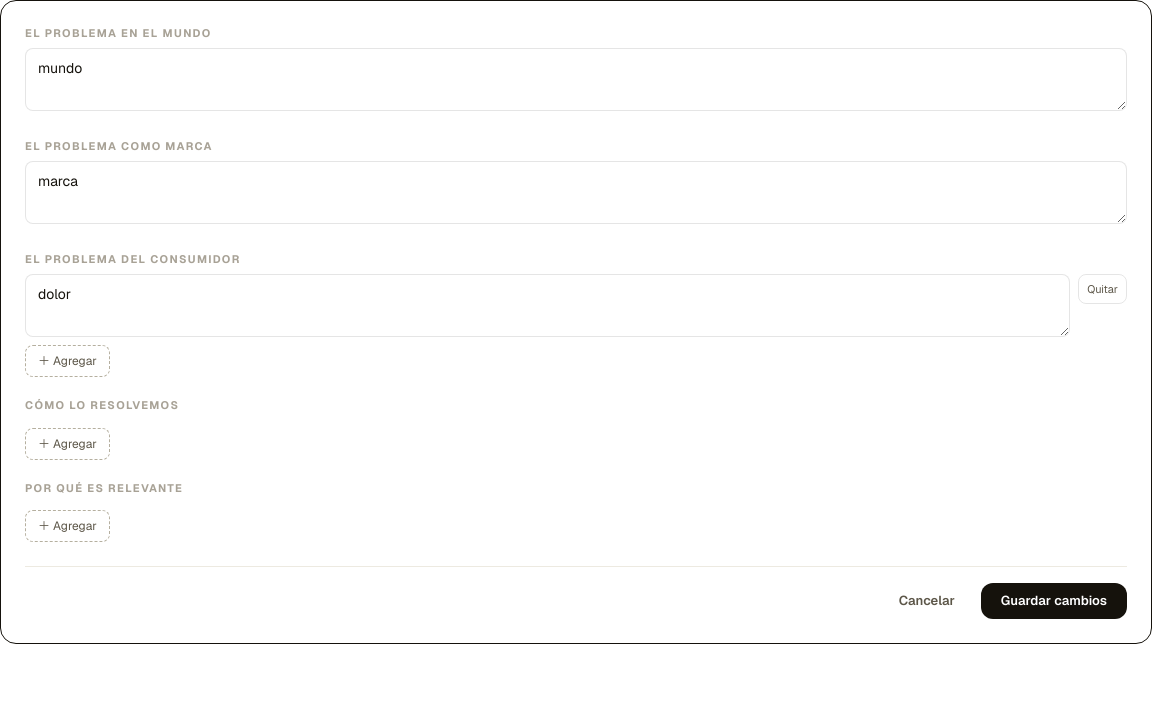
Test: EditorSeccion › el error del servidor se muestra y no recarga
Click the button "Guardar cambios".
click(1054, 601)  # box [981, 583, 1127, 618]
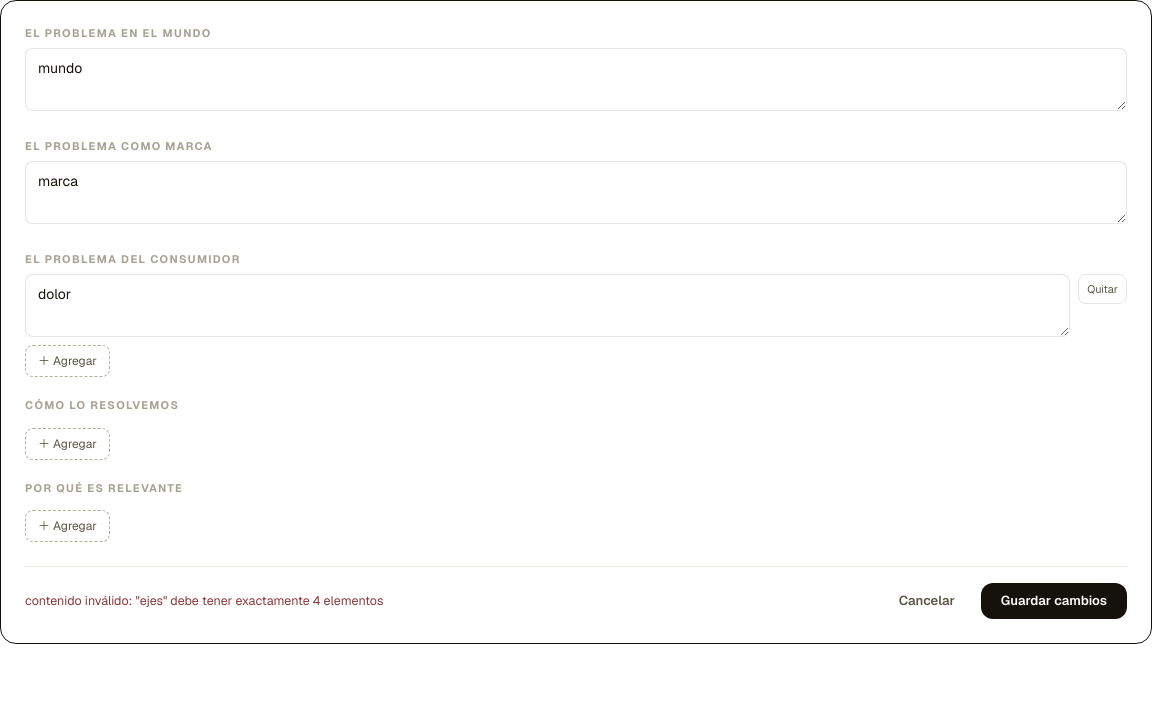
Expected: the text "contenido inválido" is shown, [25, 592, 383, 609]
